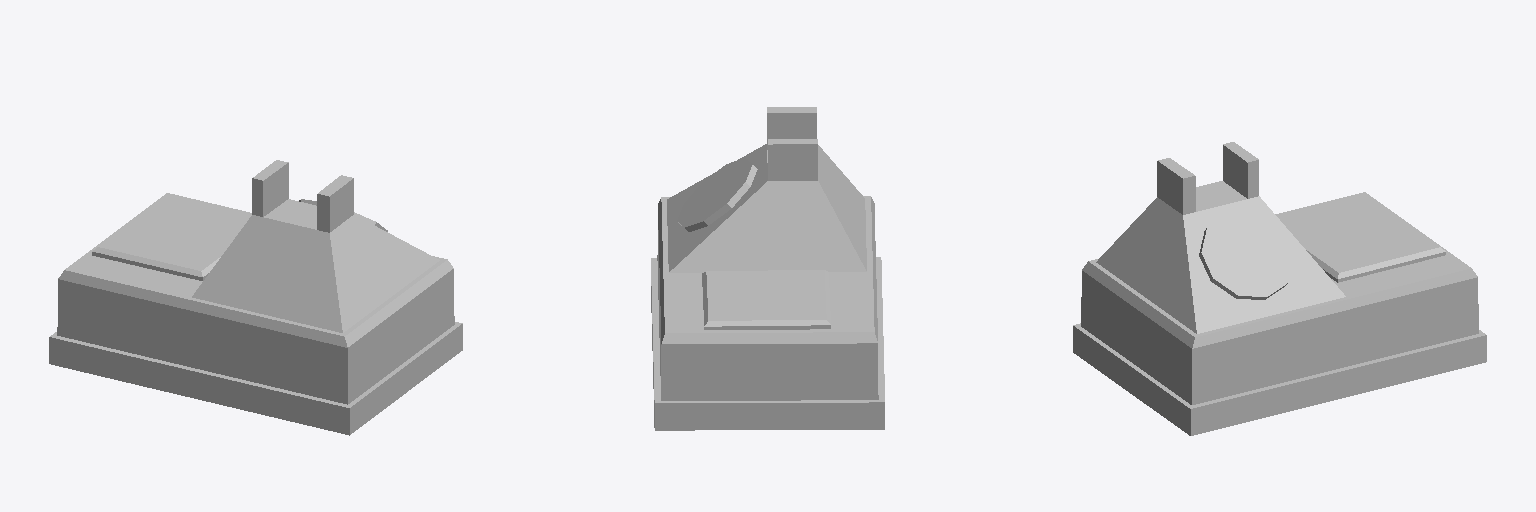
Rendered from phoneBase_mesh.obj.
3 renders of one model, left to right at view 1: azimuth 30°, elevation 25°; view 2: azimuth 150°, elevation 25°; view 3: azimuth 270°, elevation 25°, orthographic.
Visible parts, largest first — view 1: phoneBase_mesh; view 2: phoneBase_mesh; view 3: phoneBase_mesh.
Part boxes in pixels (x1,y1,x2,y2): phoneBase_mesh: (49,160,462,435); phoneBase_mesh: (651,107,884,430); phoneBase_mesh: (1073,142,1486,435).
Size of the model in its own units: 0.3677 by 0.2199 by 0.4069.